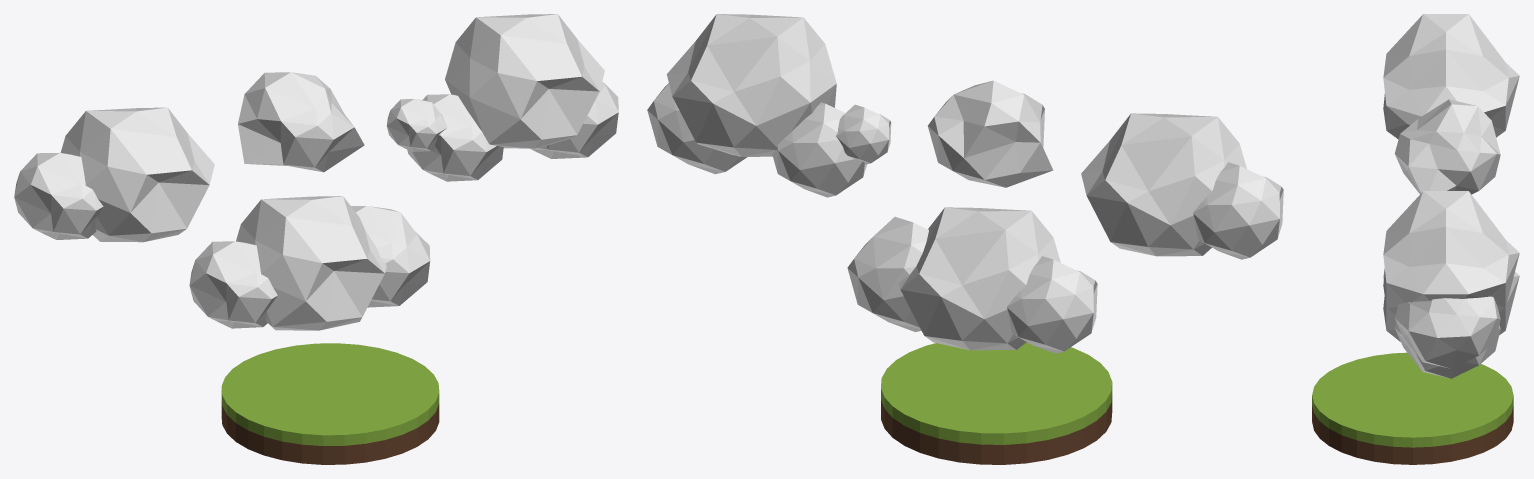
Rendered from cloud_low_poly_01.glb.
3 renders of one model, left to right at view 1: azimuth 30°, elevation 25°; view 2: azimuth 150°, elevation 25°; view 3: azimuth 270°, elevation 25°, orthographic. The views are drawn at different scales.
Parts seen in each view (by area): view 1: Cylinder.005 (×2), Icosphere.005, Icosphere, Icosphere.002, Icosphere.009, Icosphere.001, Icosphere.003, Icosphere.004, Icosphere.006, Icosphere.007, Icosphere.008; view 2: Cylinder.005 (×2), Icosphere.005, Icosphere, Icosphere.002, Icosphere.009, Icosphere.003, Icosphere.001, Icosphere.004, Icosphere.006, Icosphere.007, Icosphere.008; view 3: Cylinder.005 (×2), Icosphere.005, Icosphere, Icosphere.009, Icosphere.007, Icosphere.004, Icosphere.002.
Boxes of the visible parts, x1,y1,x2,y2 form: Cylinder.005 (×2): (221, 343, 439, 464); Icosphere.005: (445, 14, 604, 148); Icosphere: (60, 107, 214, 242); Icosphere.002: (236, 196, 386, 330); Icosphere.009: (238, 72, 364, 172); Icosphere.001: (14, 152, 103, 239); Icosphere.003: (189, 241, 277, 328); Icosphere.004: (351, 206, 430, 307); Icosphere.006: (407, 94, 503, 181); Icosphere.007: (530, 81, 618, 158); Icosphere.008: (386, 99, 447, 151); Cylinder.005 (×2): (881, 342, 1112, 464); Icosphere.005: (667, 14, 836, 156); Icosphere: (1081, 113, 1246, 256); Icosphere.002: (899, 207, 1060, 350); Icosphere.009: (928, 80, 1053, 187); Icosphere.003: (1007, 256, 1097, 353); Icosphere.001: (1193, 162, 1283, 259); Icosphere.004: (847, 216, 928, 331); Icosphere.006: (772, 102, 866, 197); Icosphere.007: (647, 83, 747, 174); Icosphere.008: (836, 104, 891, 164); Cylinder.005 (×2): (1312, 352, 1513, 464); Icosphere.005: (1383, 191, 1519, 314); Icosphere: (1383, 14, 1519, 139); Icosphere.009: (1394, 99, 1500, 194); Icosphere.007: (1394, 296, 1500, 368); Icosphere.004: (1395, 322, 1500, 378); Icosphere.002: (1383, 268, 1519, 341).
Size of the model in its own units: 6.27 by 3.42 by 2.06.
